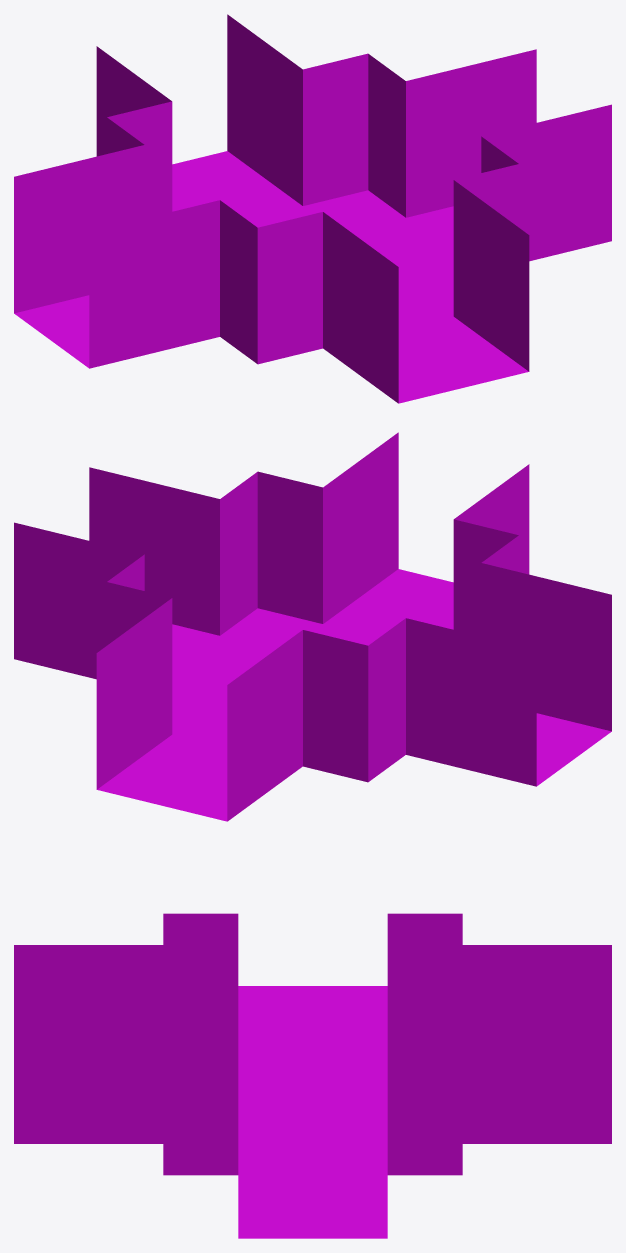
File: cross_room_0.glb
The picture shows the model from 3 angles, top to bottom: view 1: azimuth 30°, elevation 25°; view 2: azimuth 150°, elevation 25°; view 3: azimuth 270°, elevation 25°; orthographic projection.
Parts seen in each view (by area): view 1: cross_room_0; view 2: cross_room_0; view 3: cross_room_0.
Boxes of the visible parts, <box> form: cross_room_0: <box>14,14,611,403</box>; cross_room_0: <box>14,432,611,821</box>; cross_room_0: <box>14,913,611,1238</box>.
Size of the model in its own units: 4 by 1 by 4.
